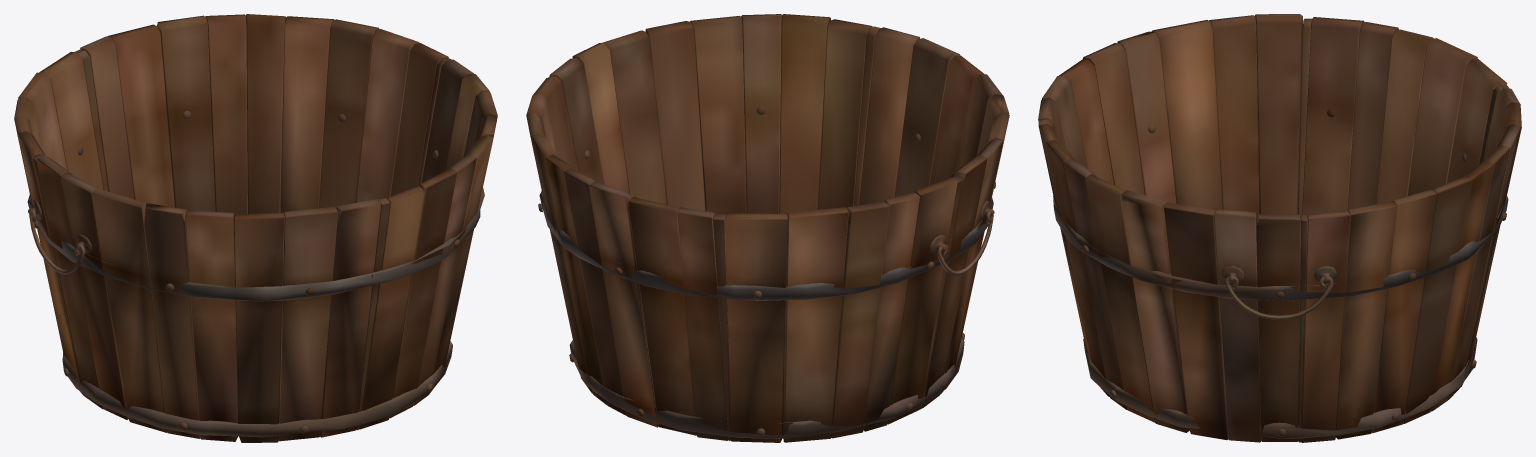
File: wooden-bucket-02.glb
3 views of the same model, side by side, from view 1: azimuth 30°, elevation 25°; view 2: azimuth 150°, elevation 25°; view 3: azimuth 270°, elevation 25° (orthographic).
Visible parts, largest first — view 1: wooden_bucket_02; view 2: wooden_bucket_02; view 3: wooden_bucket_02.
Boxes of the visible parts, bbox=[...] form: wooden_bucket_02: bbox=[14, 14, 497, 442]; wooden_bucket_02: bbox=[526, 14, 1009, 442]; wooden_bucket_02: bbox=[1038, 14, 1521, 442].
Bounding box in the file's own units: 0.6133 × 0.3505 × 0.6152.
Materials: 1 (1 with a texture image).
